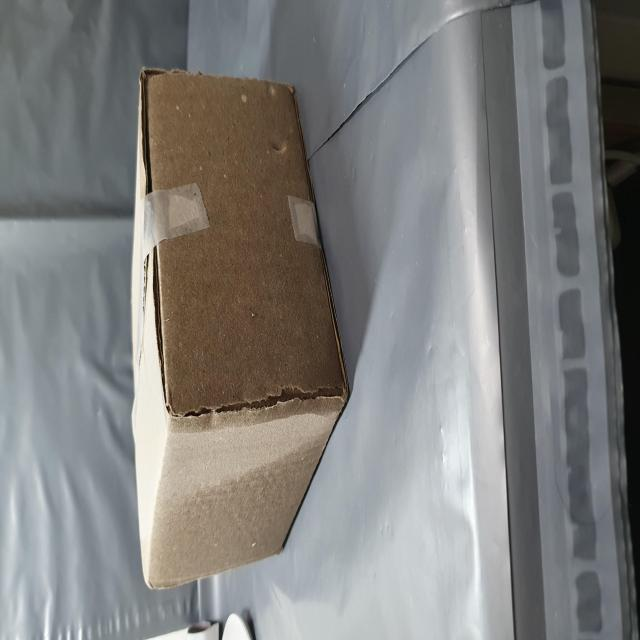wet: (120, 257, 315, 603), (24, 251, 100, 575)
